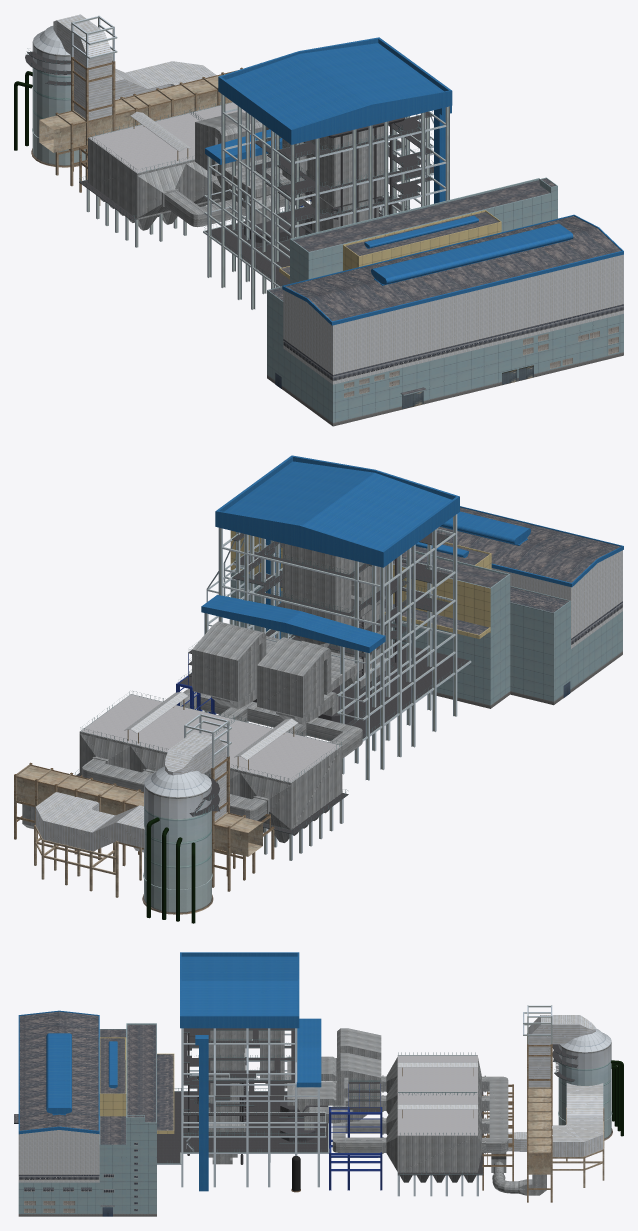
The model's file is jizu.FBX.
The picture shows the model from 3 angles, top to bottom: view 1: azimuth 30°, elevation 25°; view 2: azimuth 150°, elevation 25°; view 3: azimuth 270°, elevation 25°; orthographic projection. The views are drawn at different scales.
Visible parts, largest first — view 1: 6, 对象003, 050, 1, 2, 对象001, 052, 049, 4, 21, 19, 7 (+12 smaller); view 2: 2, 6, 1, 052, 21, 050, 7, 4, 23, 19, 051, 053 (+8 smaller); view 3: 2, 050, 6, 4, 1, 052, 21, 7, 051, 049, 3, 23 (+12 smaller).
Part boxes in pixels (x1,y1,x2,y2): 6: [205, 37, 452, 203]; 对象003: [333, 254, 623, 384]; 050: [269, 178, 620, 321]; 1: [71, 15, 449, 309]; 2: [88, 102, 383, 232]; 对象001: [333, 314, 623, 422]; 052: [267, 178, 557, 422]; 049: [282, 214, 623, 325]; 4: [25, 51, 433, 286]; 21: [53, 14, 216, 151]; 19: [39, 75, 232, 152]; 7: [88, 102, 245, 173]; 2: [79, 543, 385, 830]; 6: [201, 455, 459, 653]; 1: [176, 514, 471, 860]; 052: [230, 550, 622, 705]; 21: [35, 691, 297, 852]; 050: [384, 507, 620, 634]; 7: [80, 694, 341, 782]; 4: [179, 532, 469, 833]; 23: [142, 805, 213, 914]; 19: [16, 766, 262, 856]; 051: [491, 550, 622, 648]; 053: [230, 530, 491, 638]; 2: [208, 1028, 508, 1172]; 050: [19, 1011, 173, 1144]; 6: [180, 952, 321, 1191]; 4: [157, 1028, 577, 1172]; 1: [157, 1005, 552, 1196]; 052: [18, 1023, 156, 1213]; 21: [397, 1015, 603, 1156]; 7: [397, 1055, 477, 1135]; 051: [18, 1130, 99, 1182]; 049: [18, 1010, 117, 1134]; 3: [157, 1030, 577, 1174]; 23: [558, 1059, 612, 1140].
Bounding box in the file's own units: 182 × 128 × 399.
